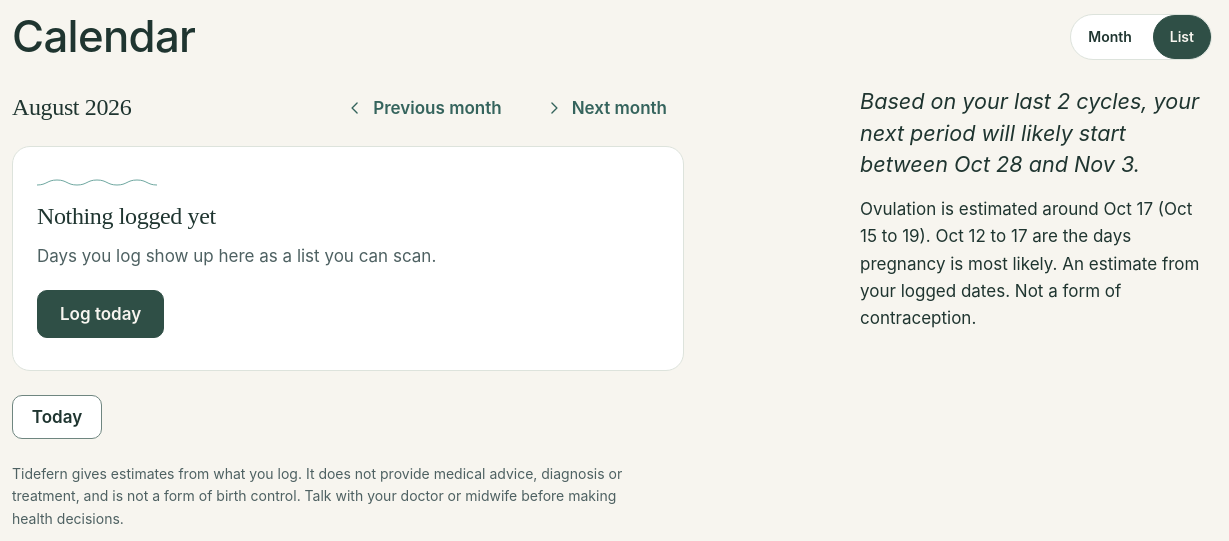
Test case: moving between months while one is still loading › steps the list on from the month asked for, and stops at today's month
What coordinates should you click on to do the following:
click the button "Next month"
I would click on:
 (605, 108)
Its box is left=527, top=86, right=684, bottom=130.
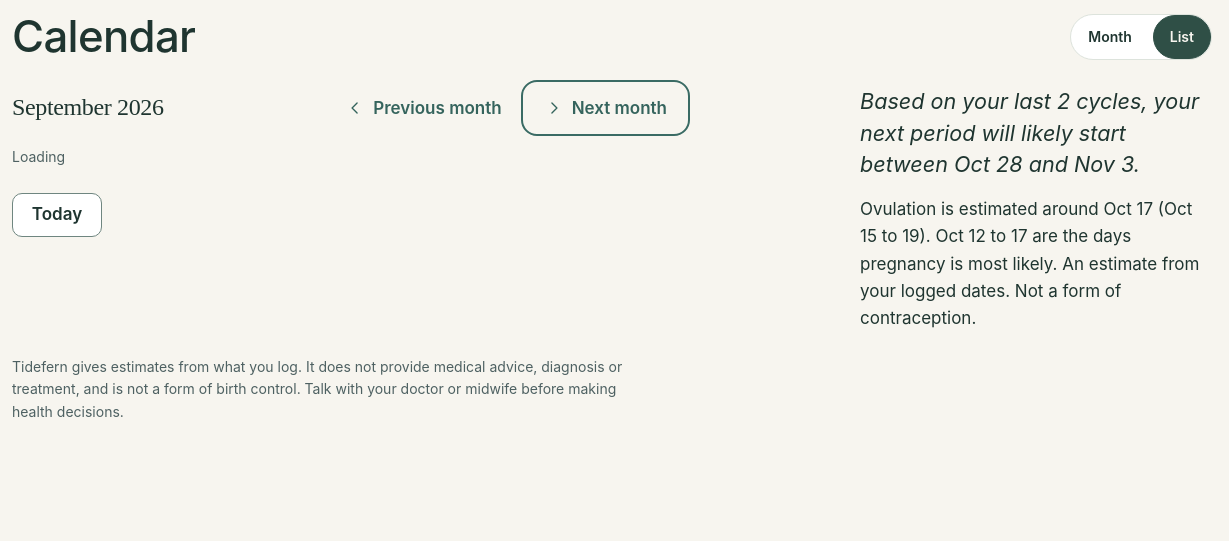
Check: the heading "September 2026" is shown, box left=12, top=94, right=164, bottom=122
What coordinates should you click on to do the following:
click the button "Next month"
I would click on:
 (605, 108)
Its box is left=527, top=86, right=684, bottom=130.
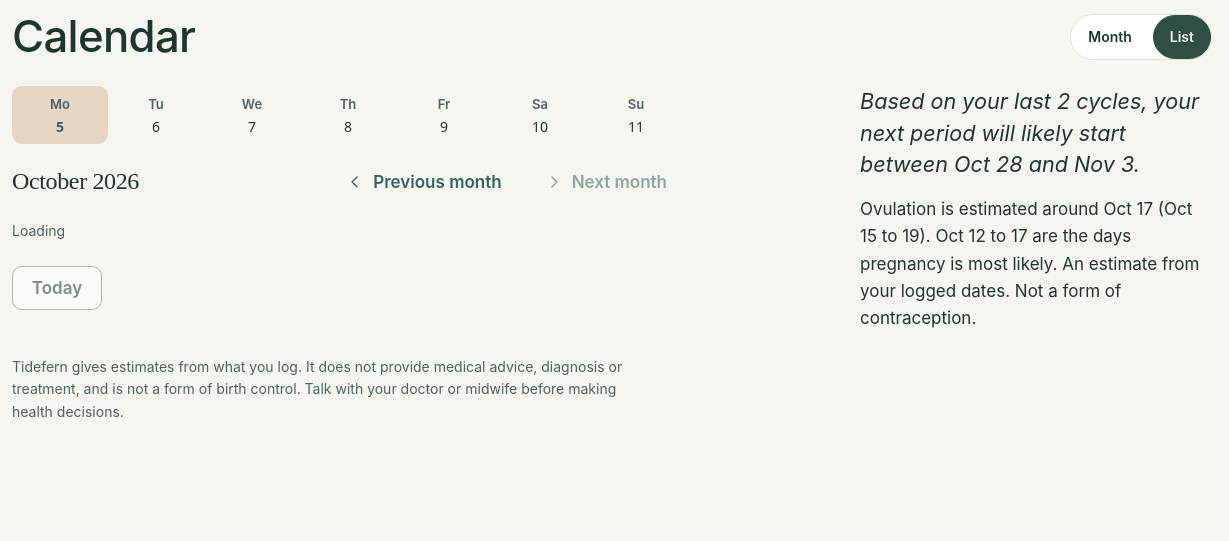
Check: the heading "Nothing logged yet" is not shown
Check: the heading "October 2026" is shown, box left=12, top=168, right=139, bottom=196
Check: the button "Next month" is disabled, box left=527, top=160, right=684, bottom=204
